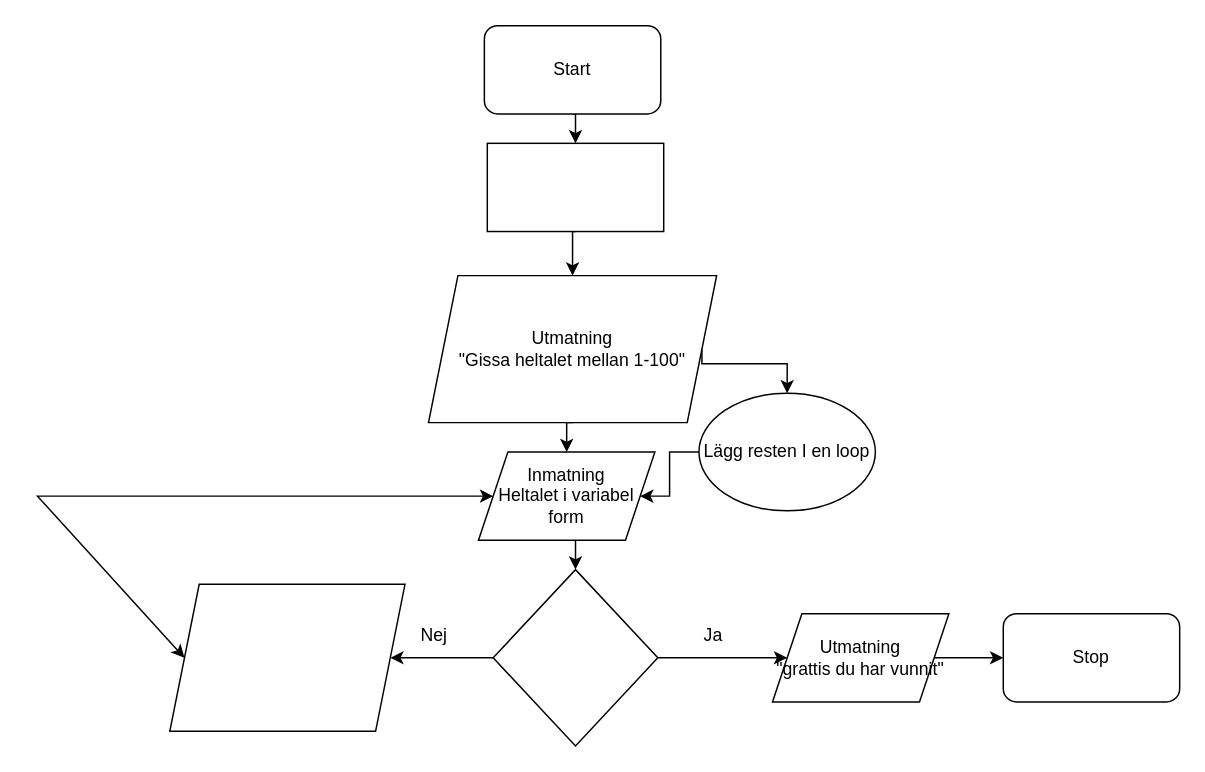
The diagram is 1205 pixels wide and 772 high, and some of its shapes have lost their labels. The shapes that lost their labels are listed below. From the top down, each one's centre as x and y in pixels, then its label:
the point at 575,187: Lägger ett Slump tal mellan 1 - 100 i minne som ska gissas.
the point at 286,657: Utmatning Ge spelare tips beroende på om talet var för litet eller för stort
the point at 575,657: Läs av om Variabeln är = Slump talet
